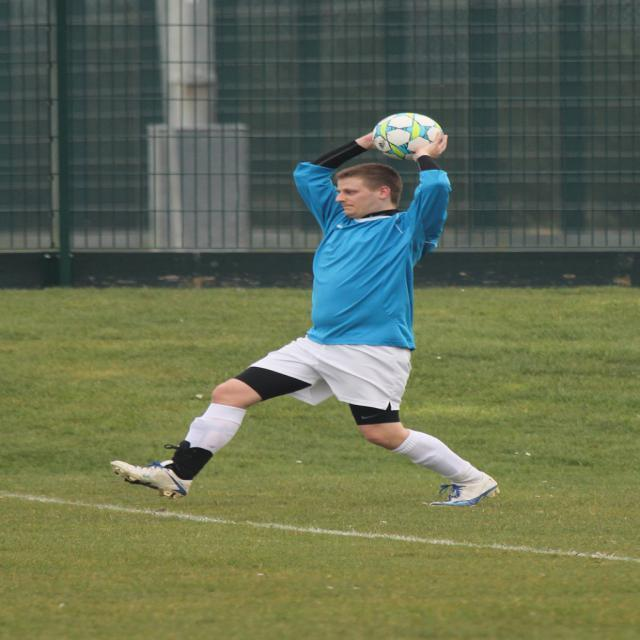football: (361, 105, 452, 165)
